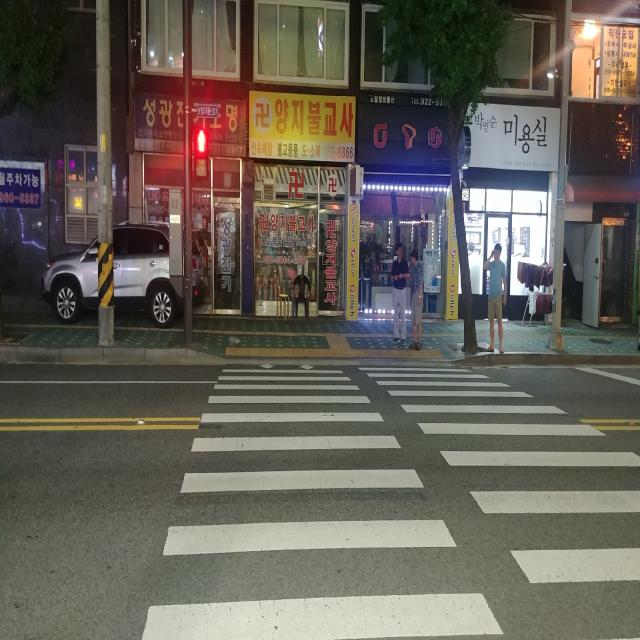빨간불: (193, 131, 208, 186)
횡단보도: (139, 361, 640, 639)
